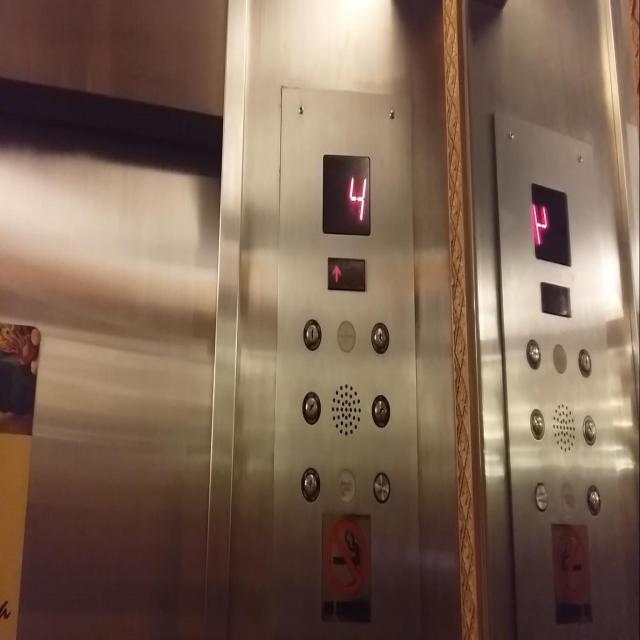keyhole: (574, 345, 596, 382), (526, 405, 548, 442), (369, 318, 390, 355), (300, 389, 321, 426), (523, 335, 544, 372), (369, 392, 390, 428), (578, 412, 599, 448), (583, 481, 604, 517), (300, 465, 320, 502), (302, 316, 322, 352)
led: (320, 150, 373, 238), (529, 179, 573, 270), (326, 254, 366, 294), (538, 277, 573, 321)
text_blur: (531, 478, 552, 514), (371, 469, 391, 504)
